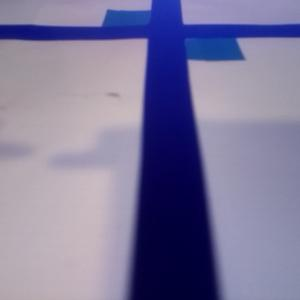bottom_right: (148, 25, 245, 60)
top_left: (101, 8, 181, 37)
